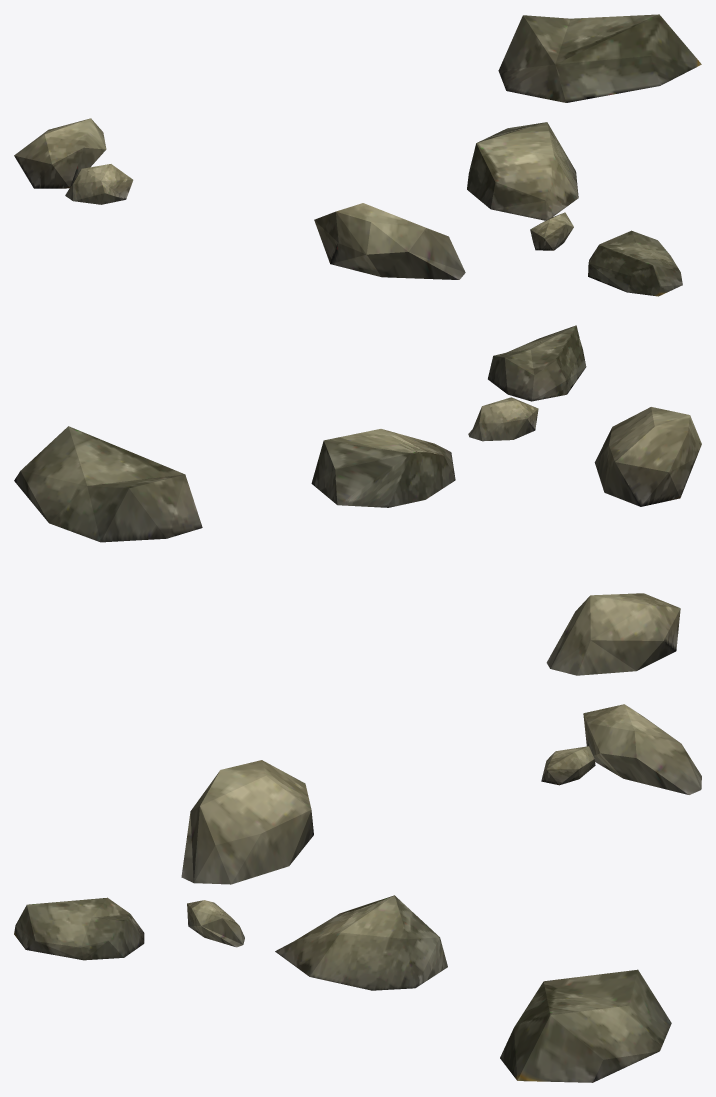
File: GreenRuins06b.FBX
3 views of the same model, one above another, from view 1: azimuth 30°, elevation 25°; view 2: azimuth 150°, elevation 25°; view 3: azimuth 270°, elevation 25° (orthographic). The views are drawn at different scales.
Parts seen in each view (by area): view 1: GreenRuins06b; view 2: GreenRuins06b; view 3: GreenRuins06b.
Boxes of the visible parts, left/top/right/bottom form: GreenRuins06b: left=14, top=14, right=701, bottom=296; GreenRuins06b: left=14, top=325, right=701, bottom=675; GreenRuins06b: left=14, top=704, right=701, bottom=1082.
Size of the model in its own units: 134 by 13.5 by 113.
1 material, 1 textured.
